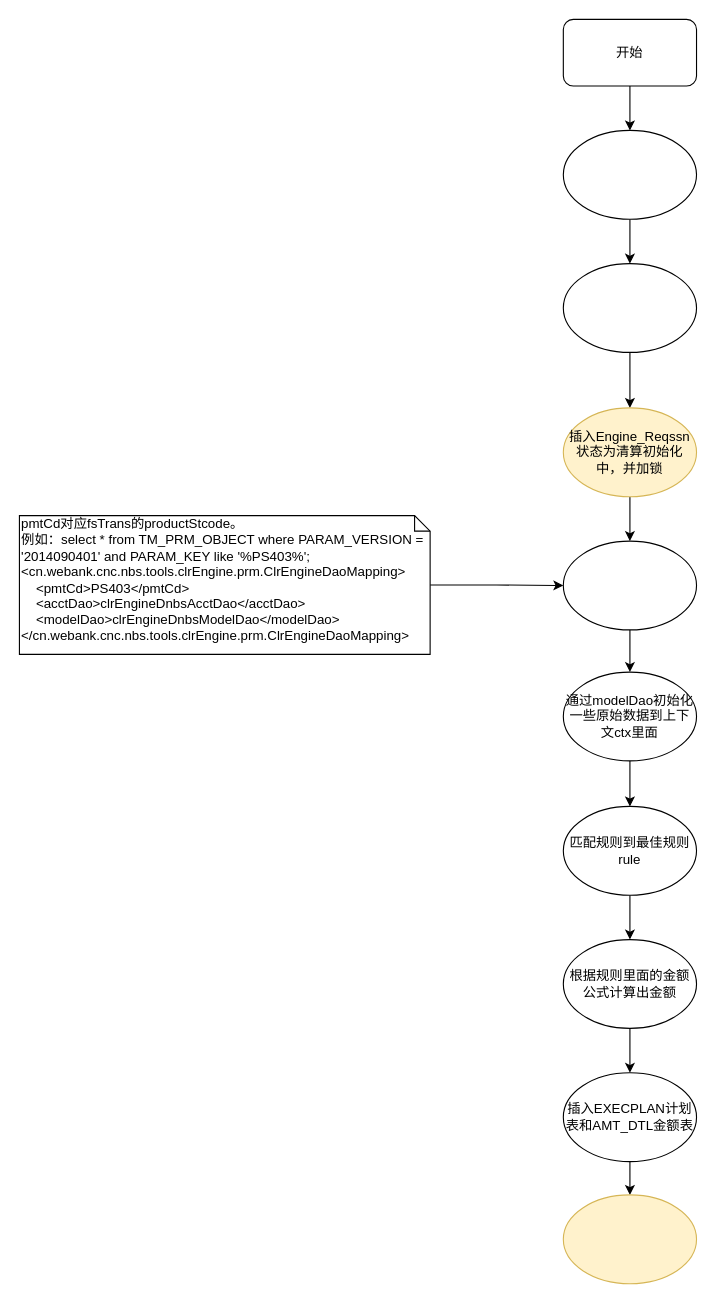
Image size: 716x1303. Some labels were removed from this diagram. Each missing label, with the centre of its shape:
"插入BUCKET_ITEM" belongs at pixel 629 307.
"新生成清算引擎的biz_seq_no和sys_seq_no" belongs at pixel 629 174.
"根据PmtCd从配置表获取ModelDao和AcctDao的接口实现类" belongs at pixel 629 585.
"状态置为清算执行中" belongs at pixel 629 1239.
